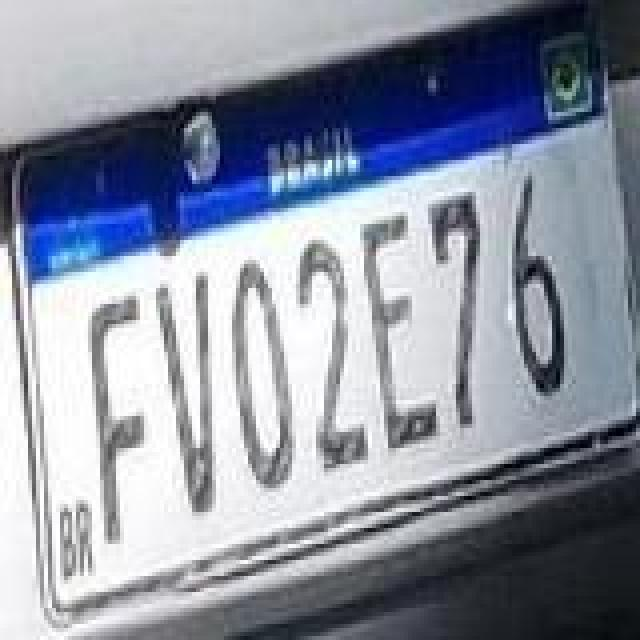2: (300, 240, 372, 480)
6: (512, 178, 568, 398)
7: (428, 192, 484, 432)
E: (360, 204, 440, 452)
F: (86, 290, 146, 542)
O: (232, 258, 296, 494)
V: (154, 268, 214, 516)
